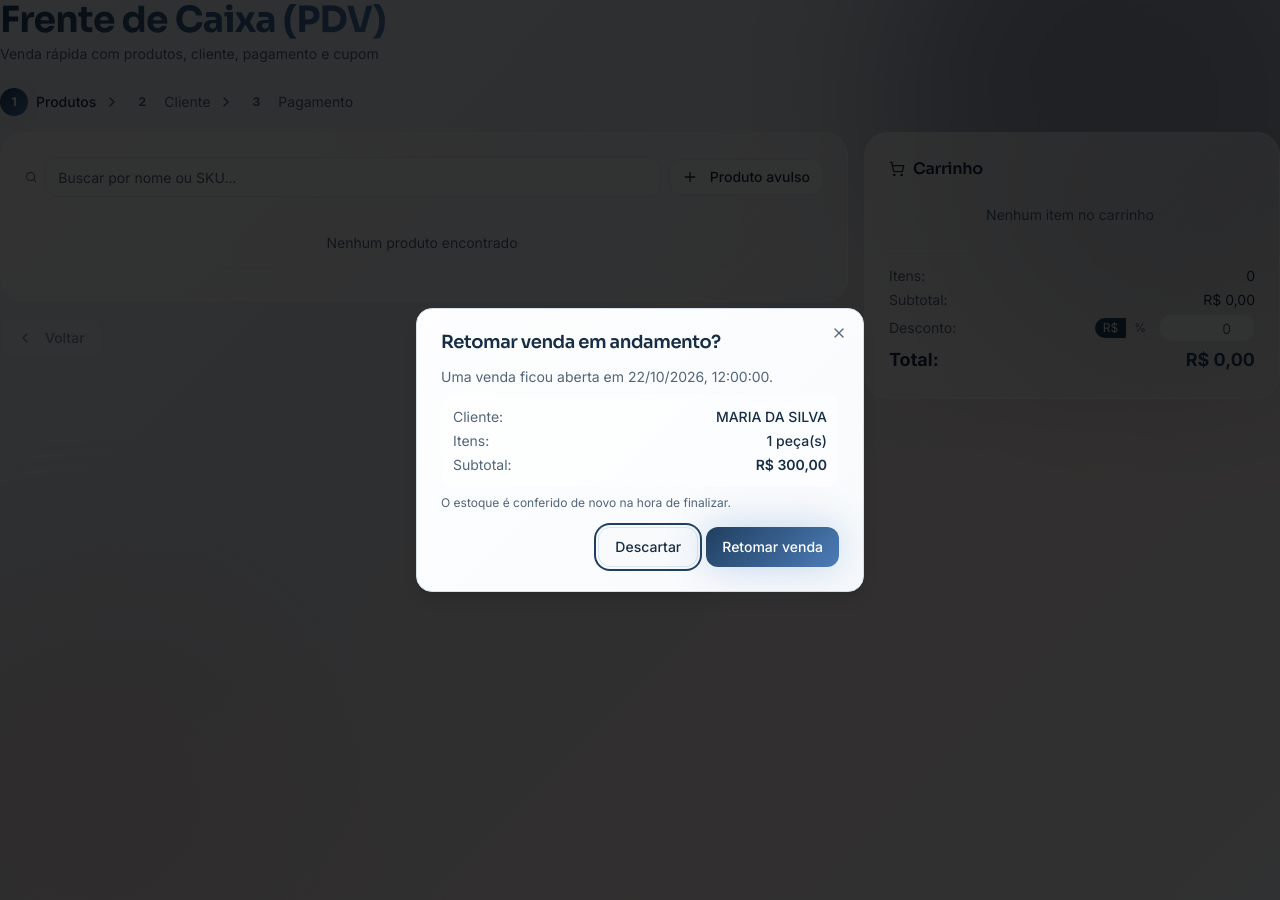
Test case: PDV — acordo com a dívida antiga › somando: parcela dívida + compra e usa a função que encerra as antigas
This screenshot has width=1280, height=900.
Later steps or results of the test are not shown.
Click the button "Retomar venda" at x=773, y=547, box top-left (706, 527), bottom-right (839, 567)
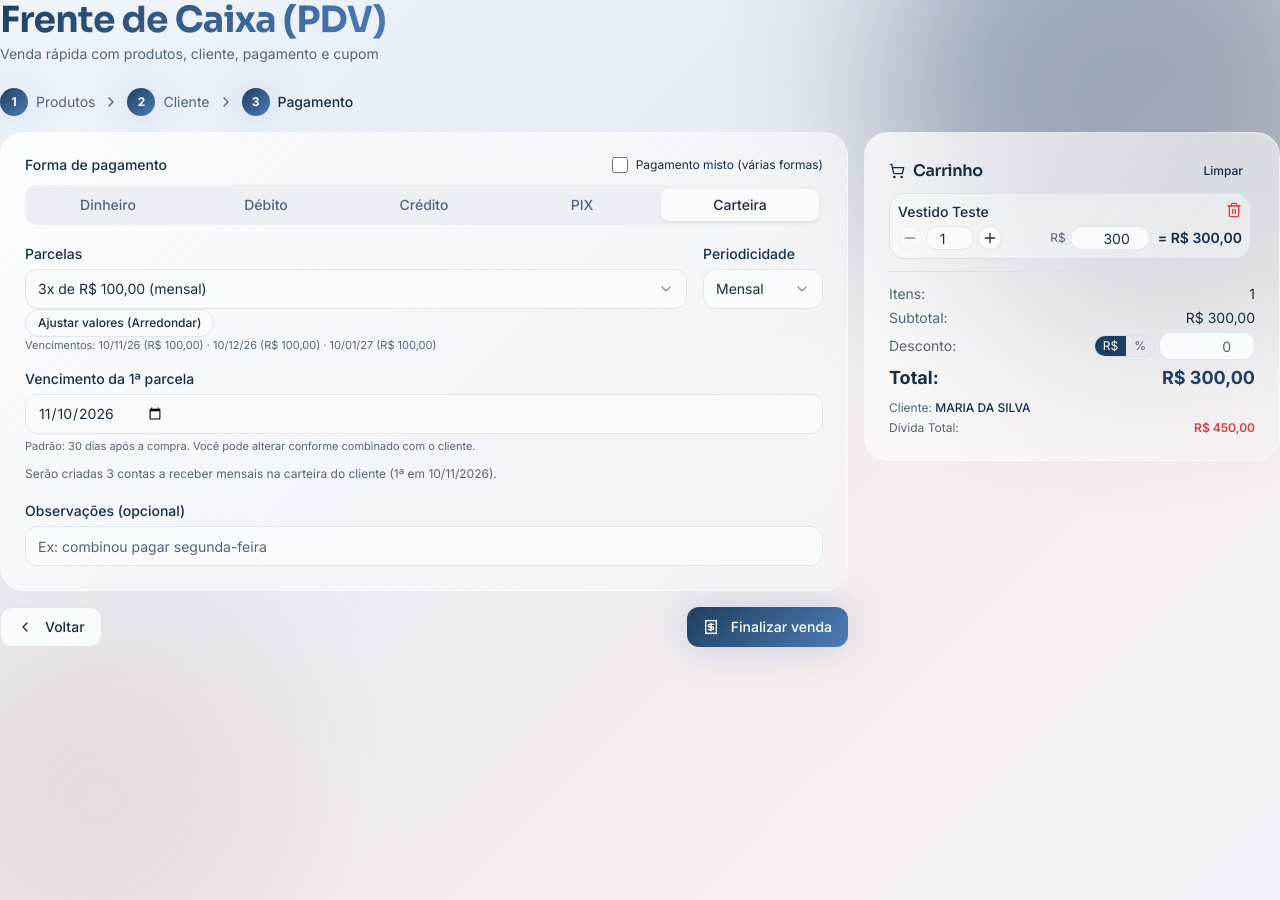
Click the button "Finalizar venda" at x=767, y=627, box top-left (687, 607), bottom-right (848, 647)
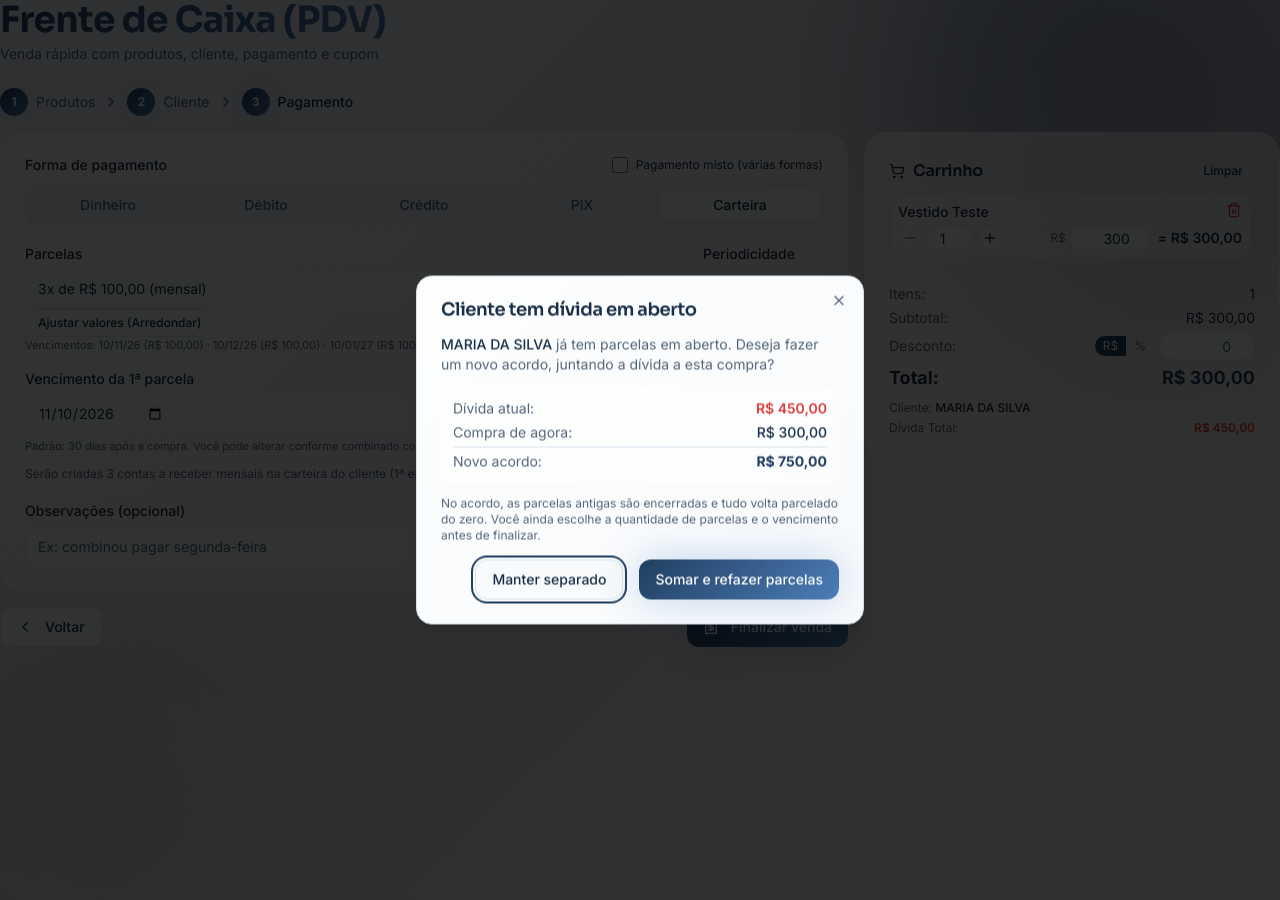
Click the button "Somar e refazer parcelas" at x=739, y=580, box top-left (639, 560), bottom-right (839, 600)
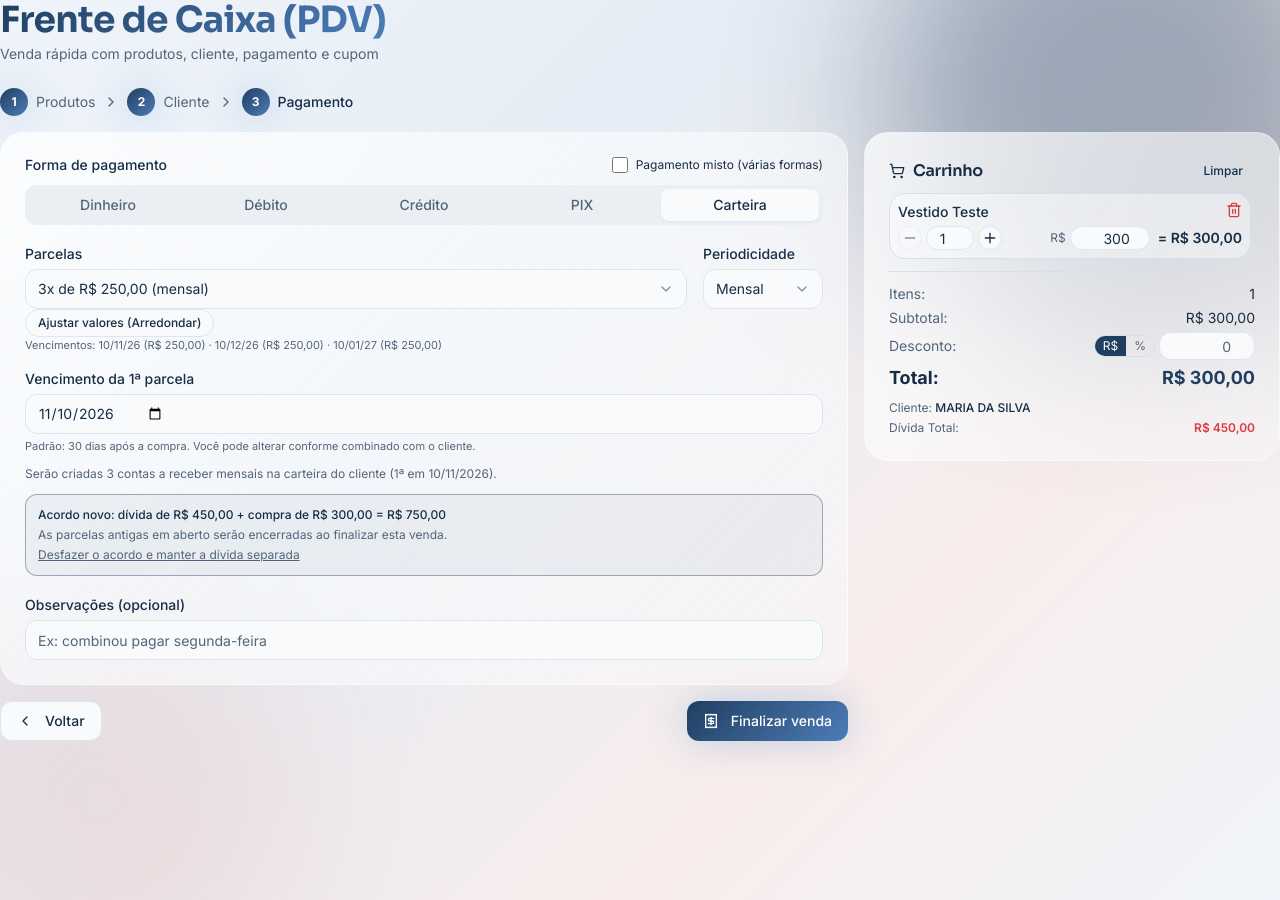
Now the heading "Cliente tem dívida em aberto" is gone
